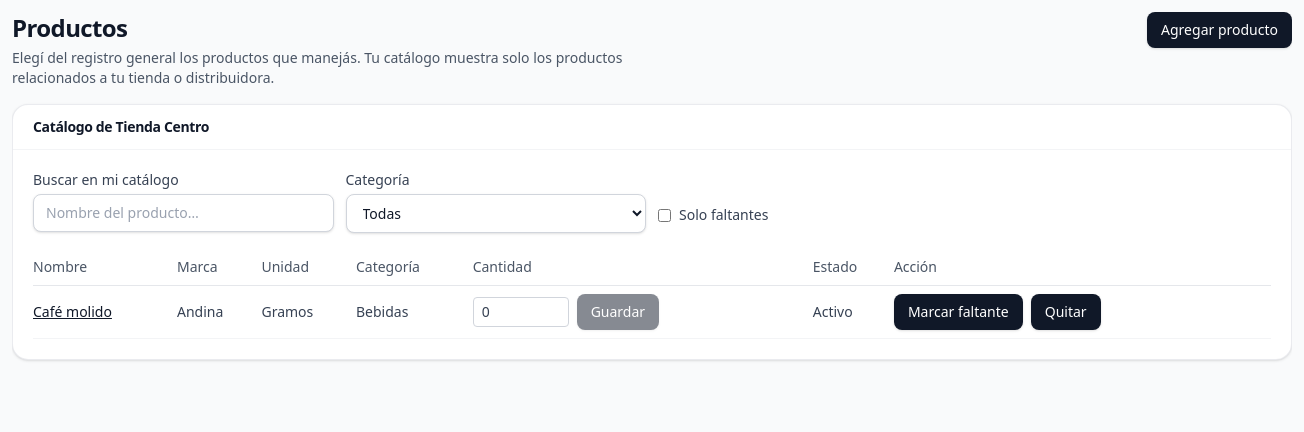
Scenario: ProductsPage (0019 · catálogo por entidad) › S6: marcar faltante prende el flag y la fila lo muestra
What coordinates should you click on to do the following:
click the button "Marcar faltante"
I would click on:
 (958, 312)
Its box is [894, 294, 1023, 330].
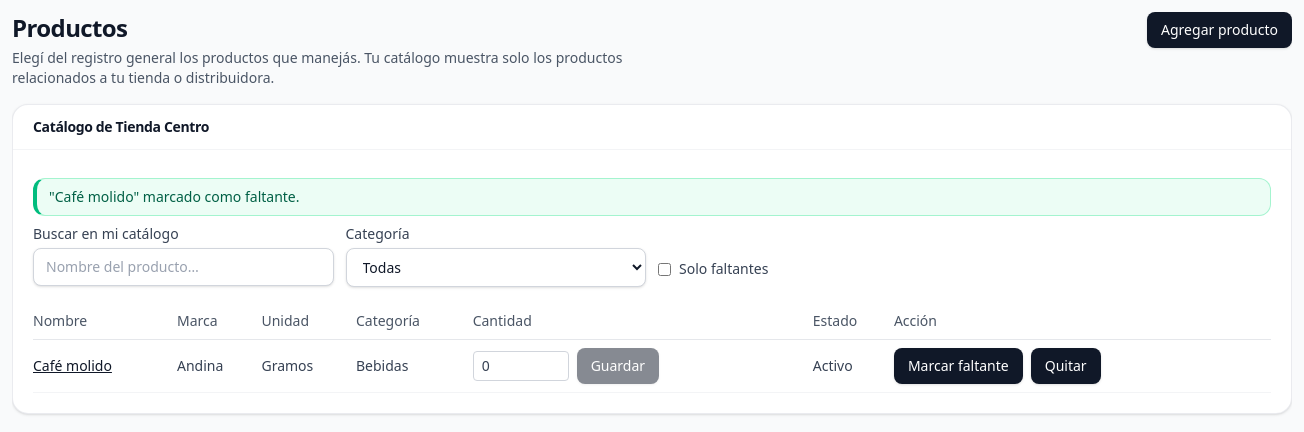
Expected: the text "\"Café molido\" marcado como faltante." is shown, [33, 178, 1271, 216]
